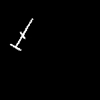double_crochet: (10, 19, 32, 49)
